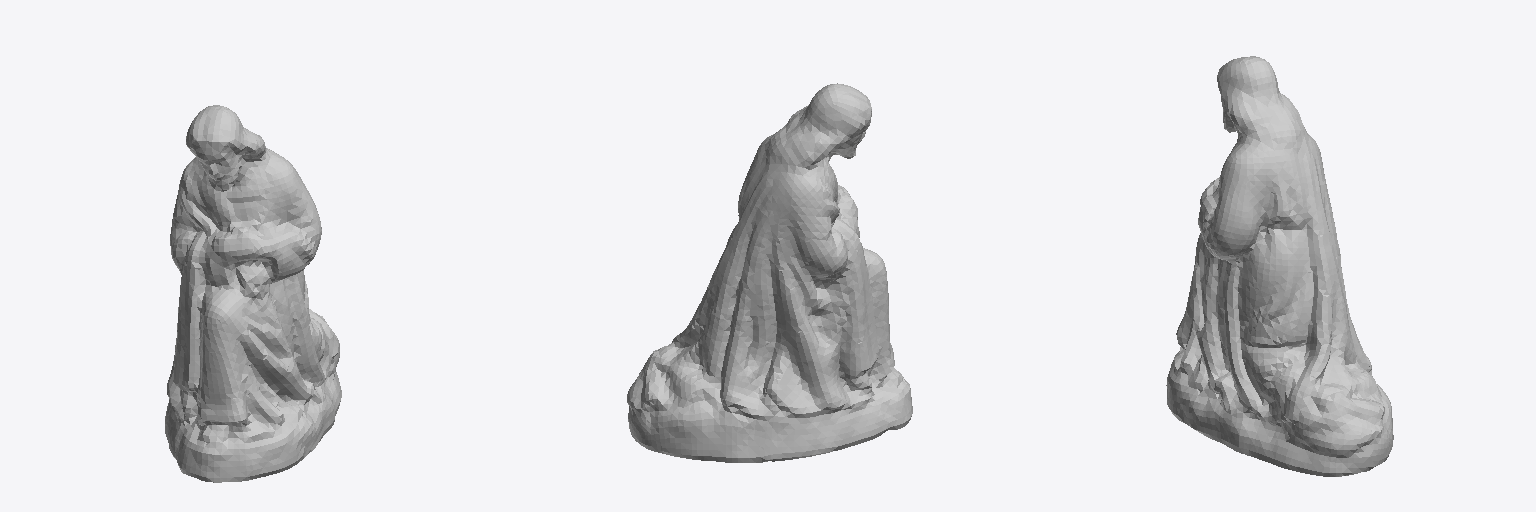
File: Giuseppe.obj
The picture shows the model from 3 angles: view 1: azimuth 30°, elevation 25°; view 2: azimuth 150°, elevation 25°; view 3: azimuth 270°, elevation 25°; orthographic projection.
Visible parts, largest first — view 1: SJose_LP2; view 2: SJose_LP2; view 3: SJose_LP2.
Part boxes in pixels (left/top/right/bottom): SJose_LP2: left=165, top=105, right=341, bottom=482; SJose_LP2: left=627, top=83, right=912, bottom=462; SJose_LP2: left=1166, top=56, right=1393, bottom=476.
Bounding box in the file's own units: 0.1252 × 0.1919 × 0.1149.